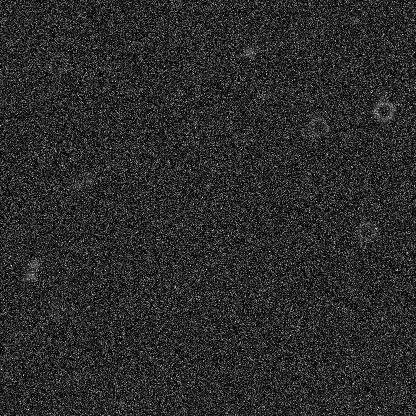Ring: (46, 51, 70, 75), (306, 114, 330, 138), (371, 98, 395, 122), (354, 219, 378, 243), (45, 300, 69, 324)
Spot: (81, 171, 97, 187), (21, 267, 37, 283), (69, 177, 85, 193), (240, 44, 256, 60), (371, 85, 387, 101), (26, 256, 42, 272)
